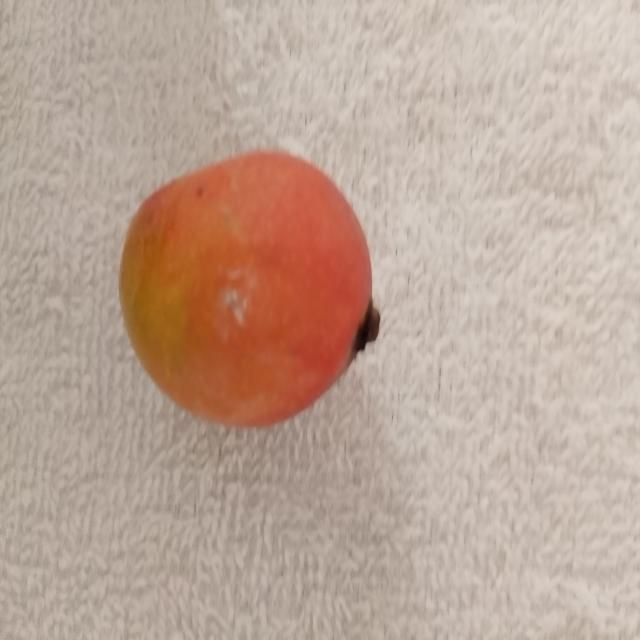mango: (120, 152, 379, 426)
